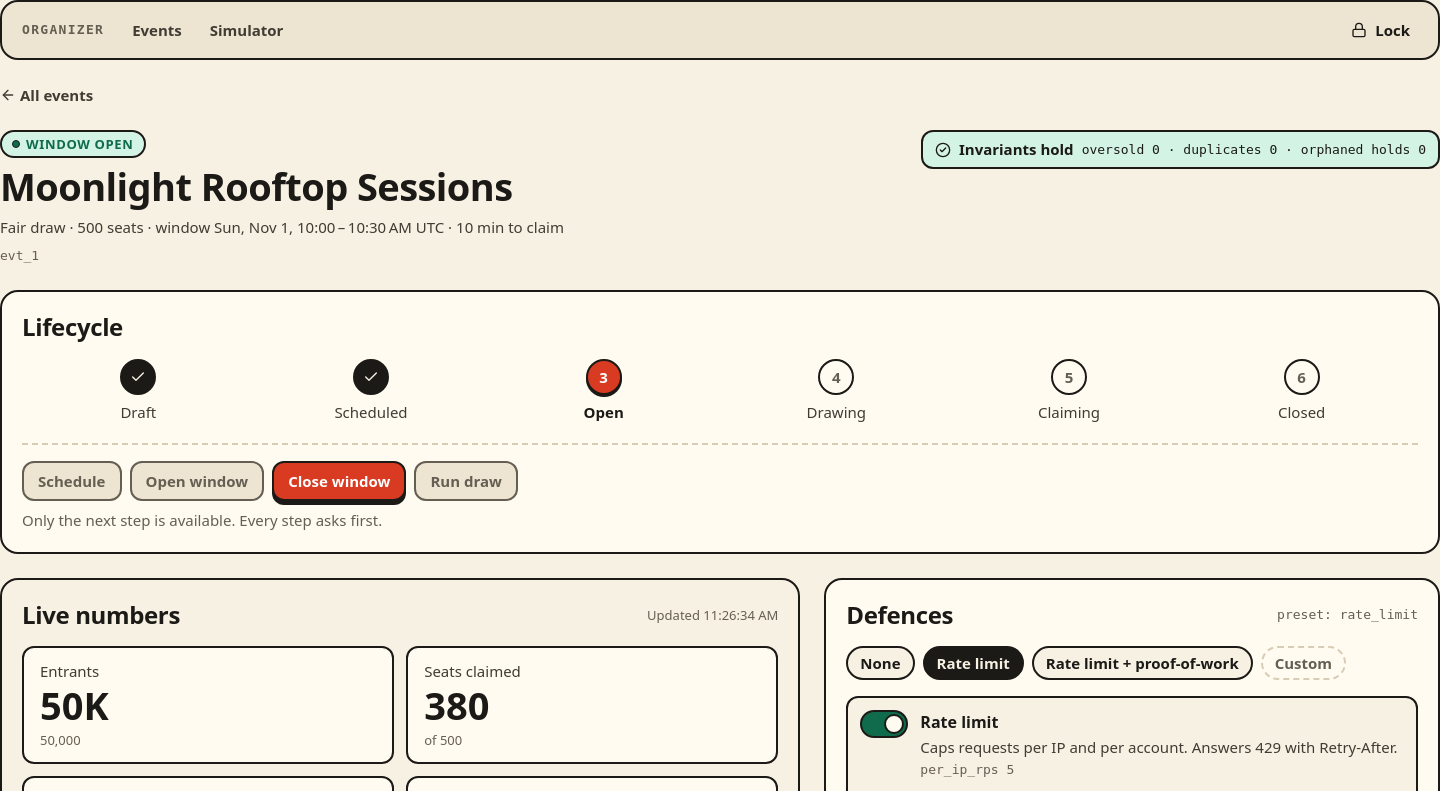
Test: event control page › asks before acting, sends an Idempotency-Key, and shows server refusals inside the dialog
Click the button "Close window": coordinates (339, 481) [272,461,406,501]
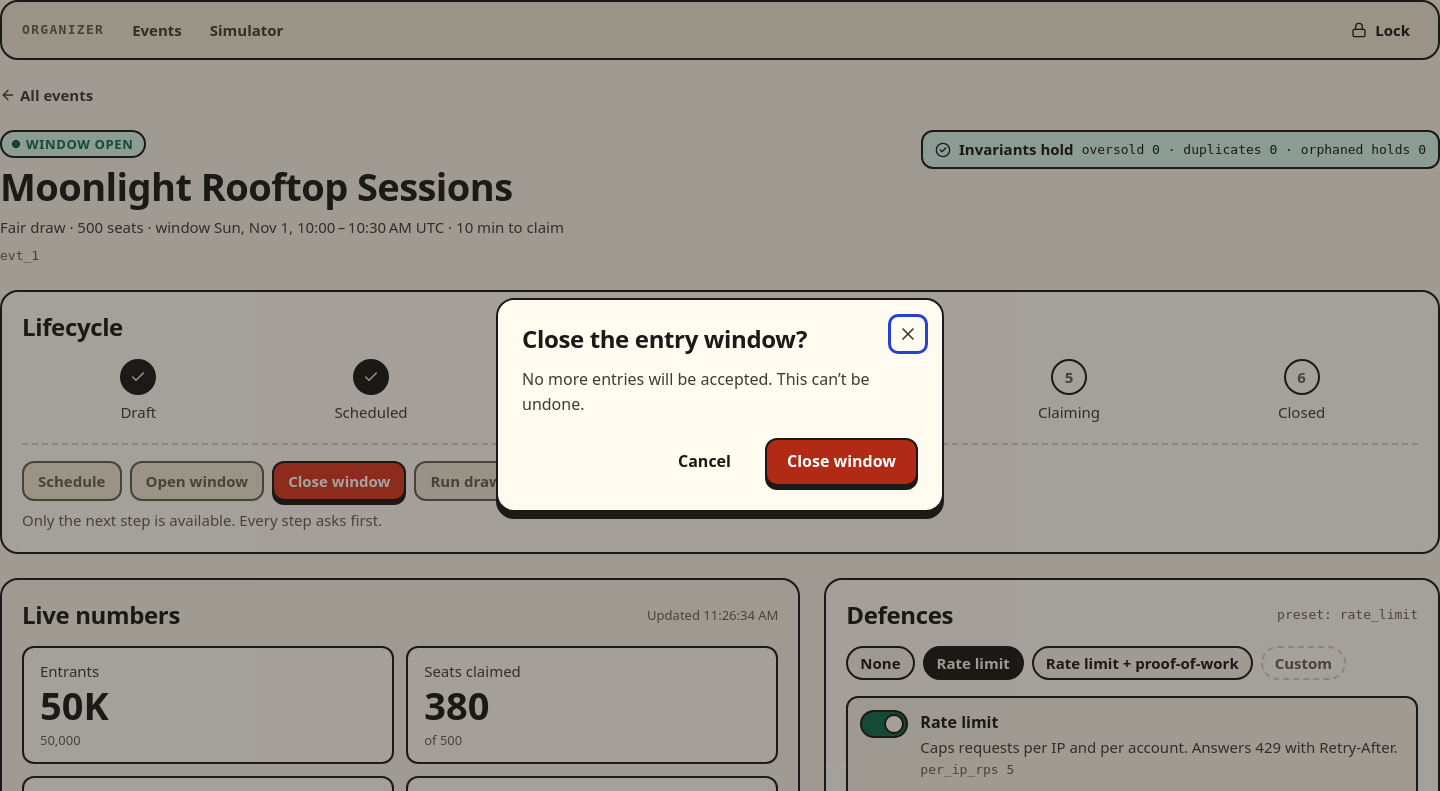
Click the button "Close window": coordinates (842, 462) [765,438,918,486]
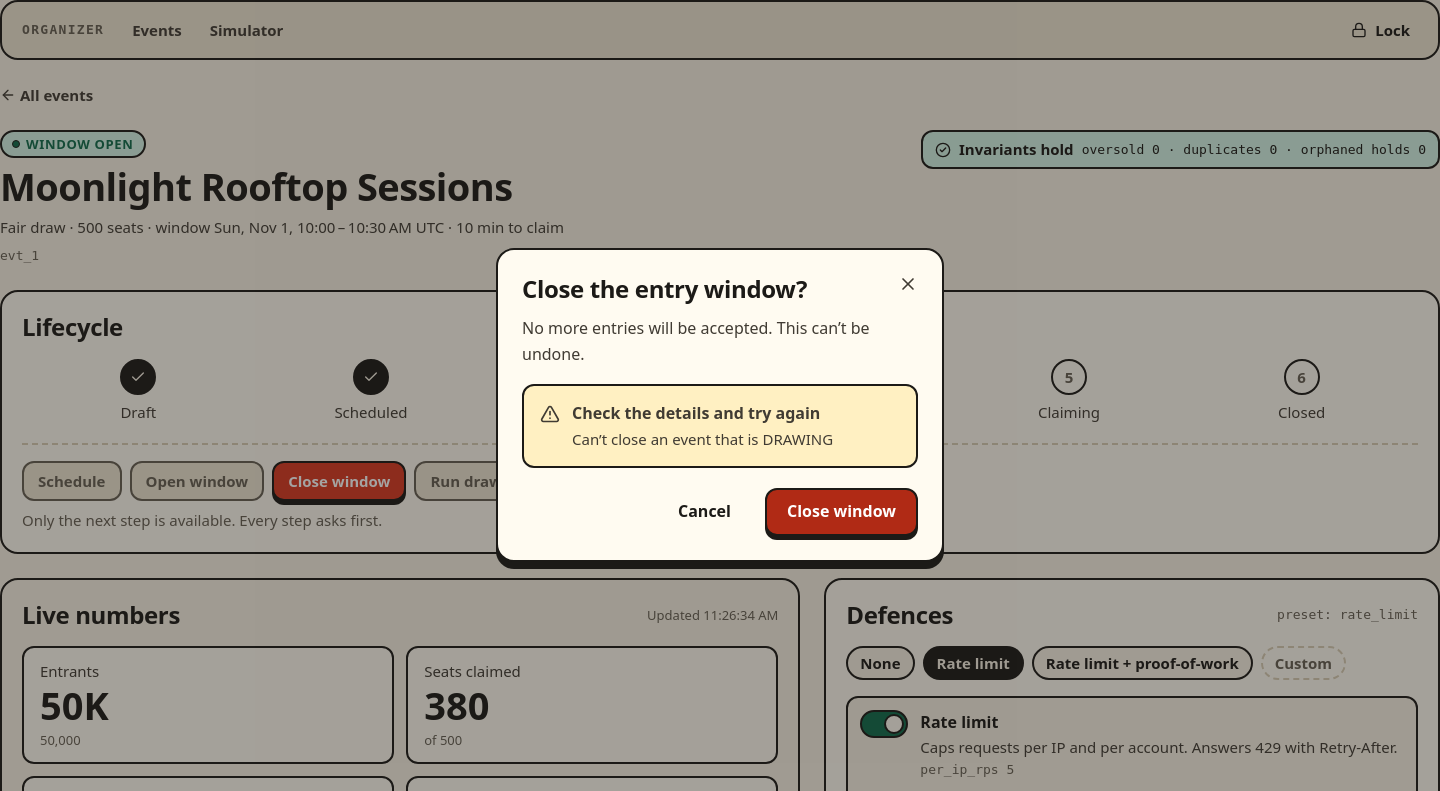
Expected: the text "Can’t close an event that is DRAWING" is shown, [572,429,833,449]
Click the button "Close window": coordinates (842, 512) [765,488,918,536]
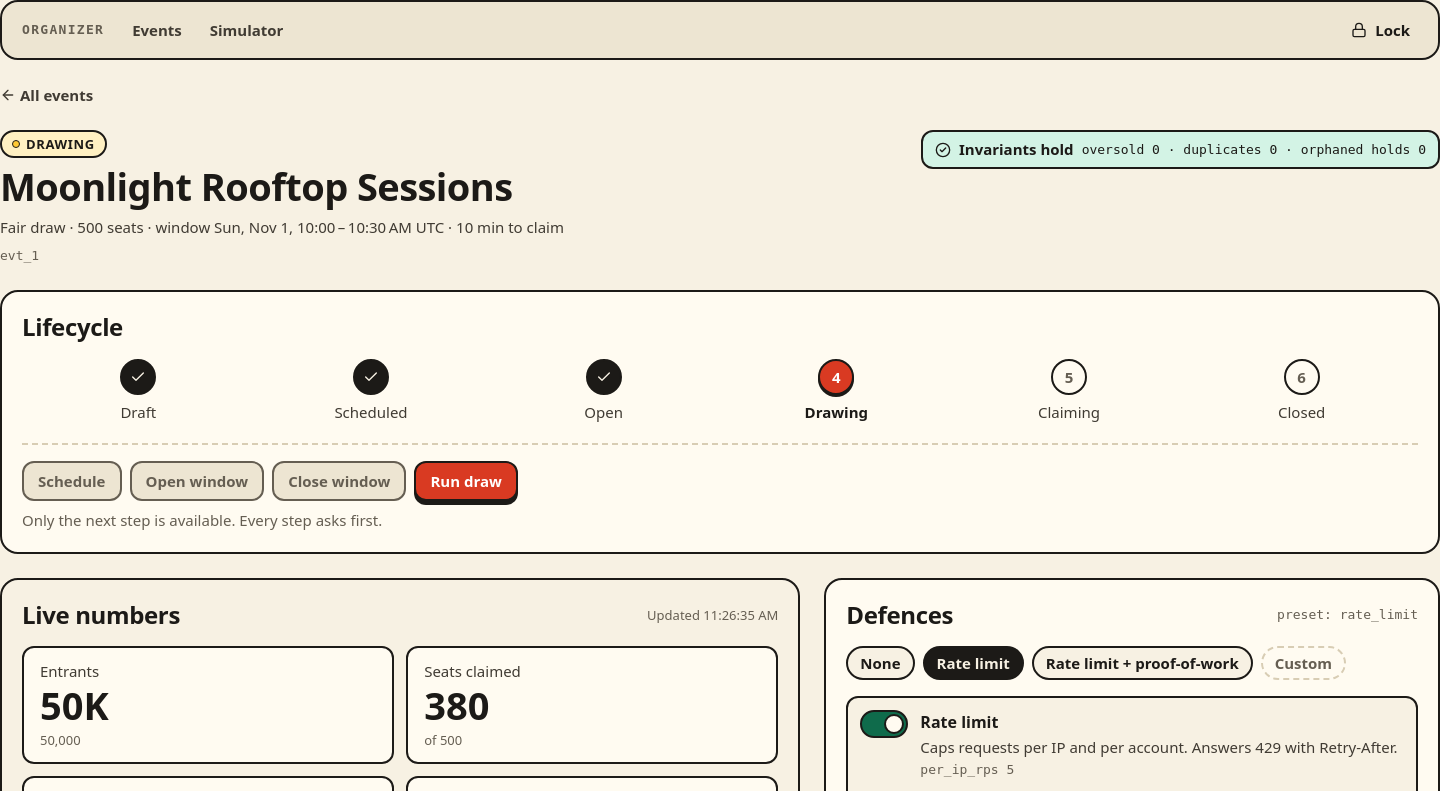
Expected: the dialog is gone
Expected: the button "Run draw" is enabled, [414,461,518,501]
